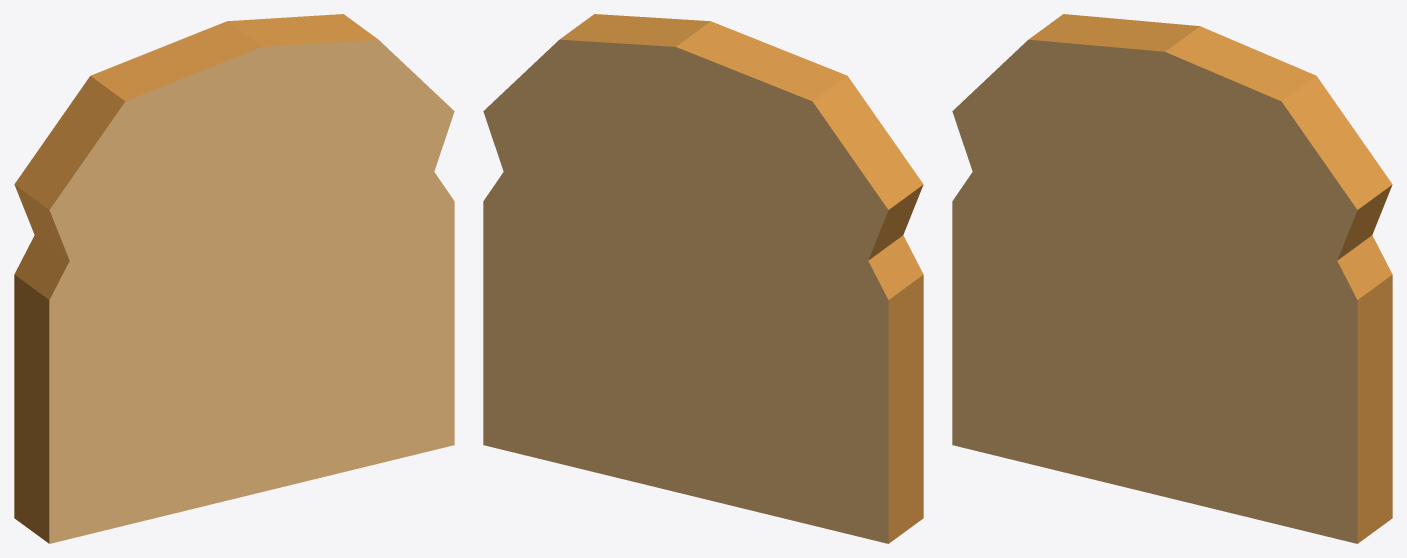
The model's file is slice-of-bread-by-ben-spriggs-47JlripsDkf.glb.
3 renders of one model, left to right at view 1: azimuth 30°, elevation 25°; view 2: azimuth 150°, elevation 25°; view 3: azimuth 330°, elevation 25°, orthographic.
Visible parts, largest first — view 1: Node; view 2: Node; view 3: Node.
Boxes of the visible parts, x1,y1,x2,y2 form: Node: (14, 14, 454, 543); Node: (483, 14, 923, 543); Node: (952, 14, 1392, 543).
Bounding box in the file's own units: 0.2 × 0.21 × 0.03.
